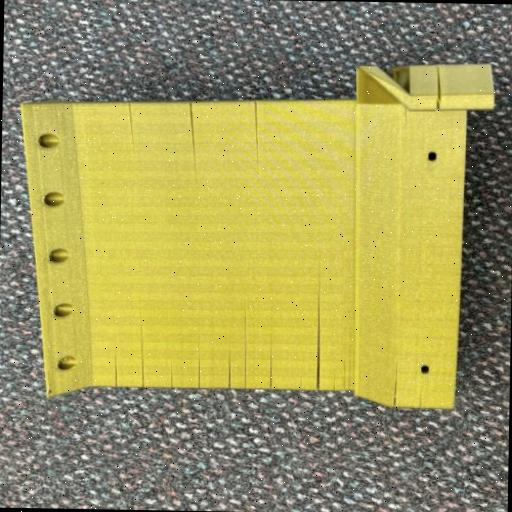cracks: (166, 330, 280, 410), (292, 268, 338, 414), (168, 88, 210, 182), (236, 96, 272, 164)
